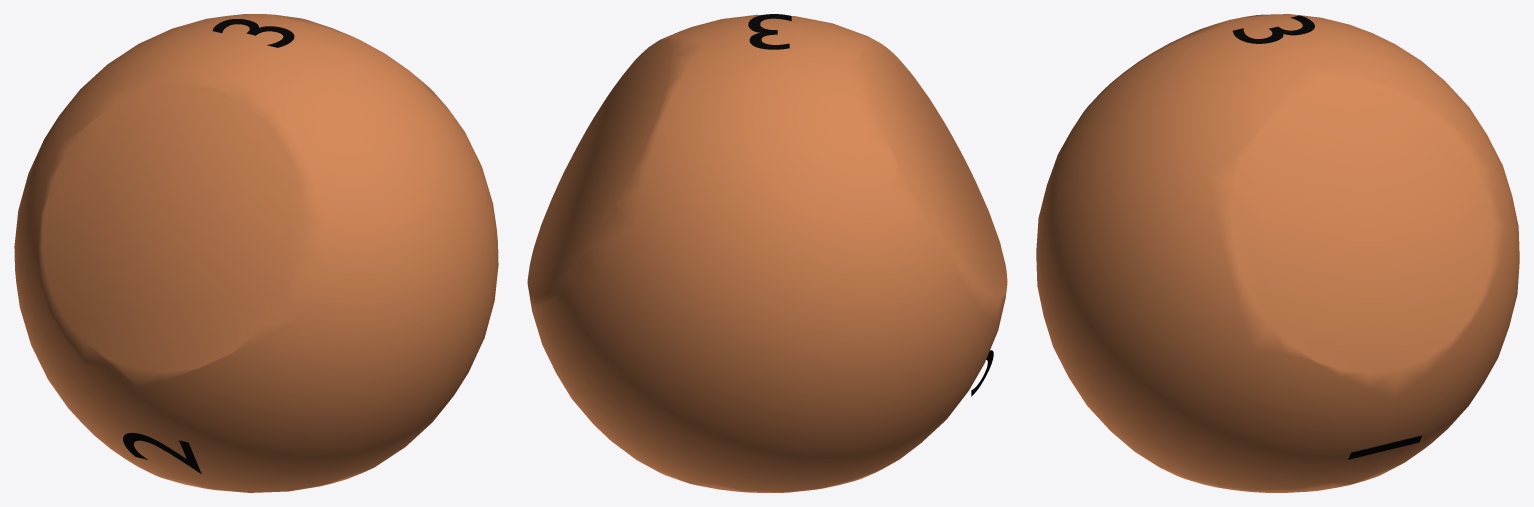
3 views of the same model, side by side, from view 1: azimuth 30°, elevation 25°; view 2: azimuth 150°, elevation 25°; view 3: azimuth 270°, elevation 25° (orthographic).
Visible parts, largest first — view 1: d3, d3_num; view 2: d3, d3_num; view 3: d3, d3_num.
Boxes of the visible parts, x1=… form: d3: x1=14, y1=14, x2=498, y2=492; d3_num: x1=123, y1=19, x2=294, y2=473; d3: x1=527, y1=14, x2=1007, y2=492; d3_num: x1=748, y1=14, x2=993, y2=396; d3: x1=1036, y1=14, x2=1519, y2=492; d3_num: x1=1232, y1=15, x2=1422, y2=459.
Size of the model in its own units: 2.58 by 2.35 by 2.57.
